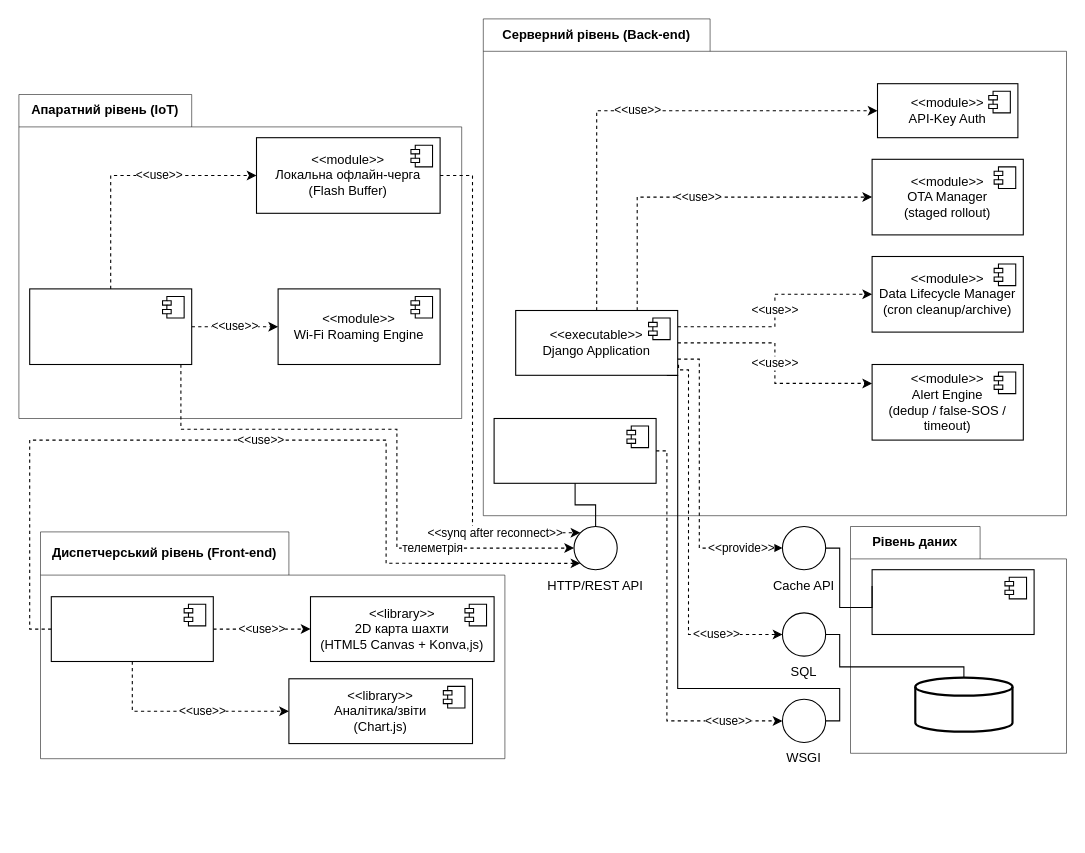
Some shapes in this 1085 by 853 pixel diagram are drawn without their labels. Each missing label, with the centre of its shape:
<<device>> ESP32 IoT-модулі: (110,326)
<<executable>> Gunicorn (WSGI сервер): (574,450)
<<executable>> Redis Cache: (952,601)
<<executable>> Web-клієнт (Partial SPA): (131,629)
PostgreSQL: (963,704)
